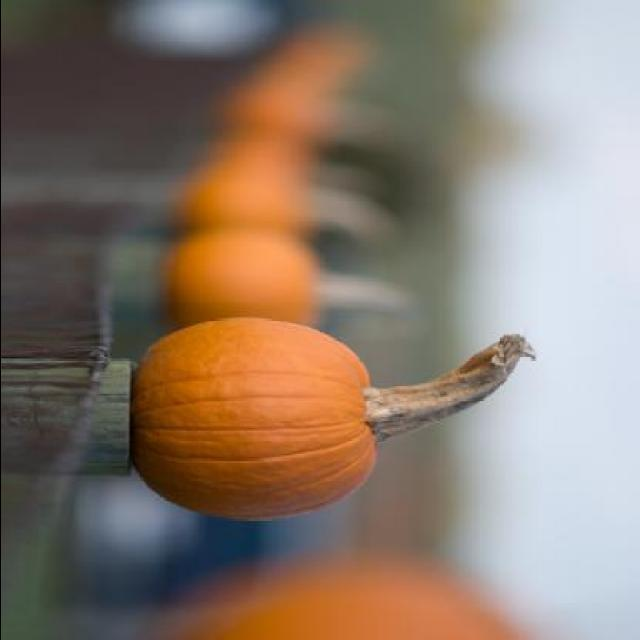Pumpkin: (131, 316, 538, 522)
